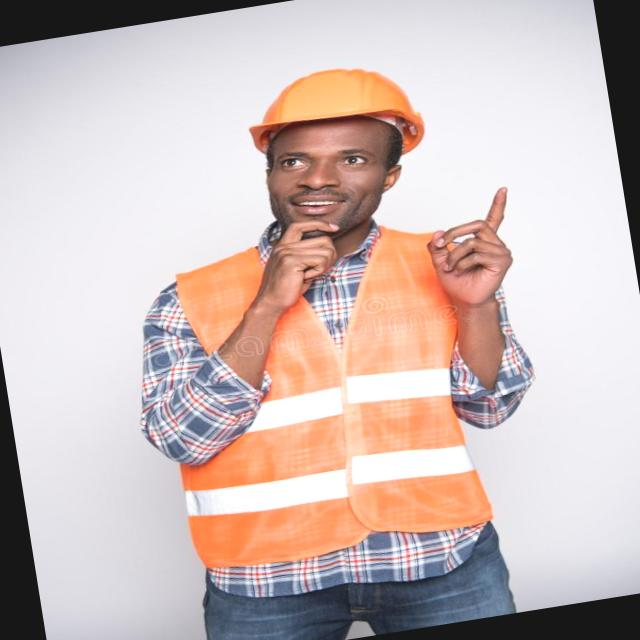helmet: (224, 52, 446, 176)
vest: (142, 205, 542, 573)
